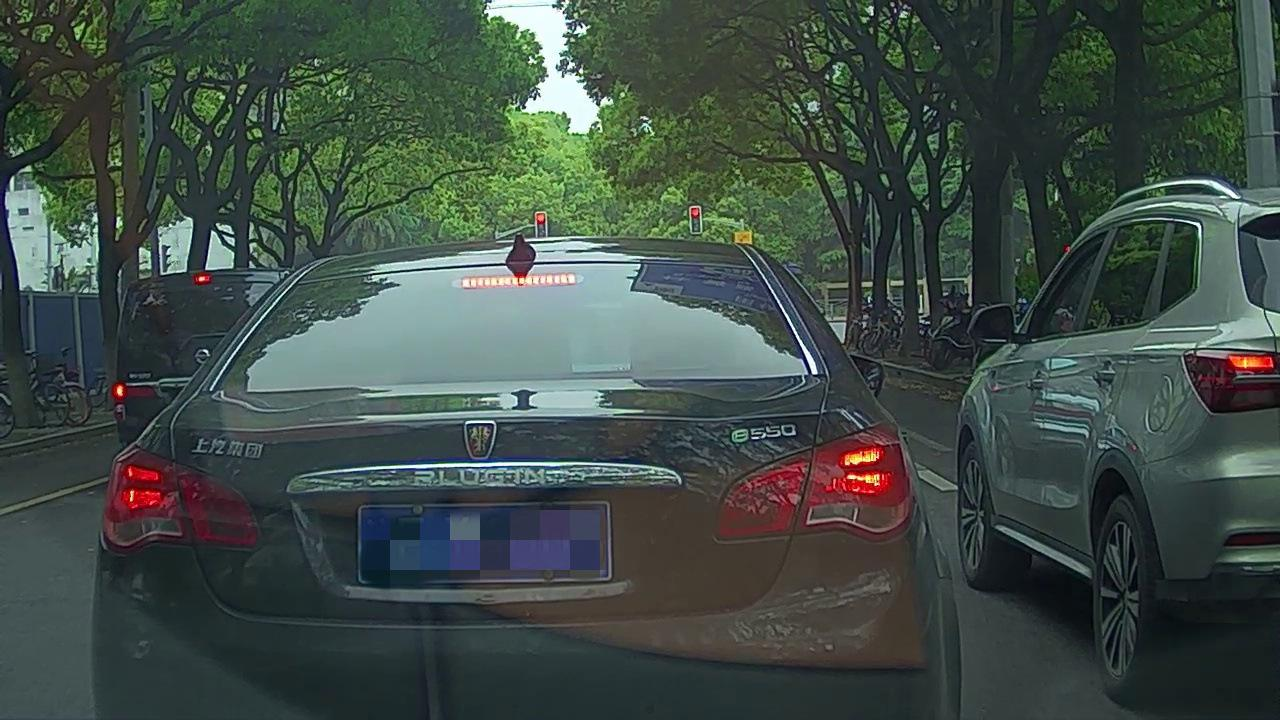traffic_light: (535, 212, 547, 238), (690, 209, 701, 234)
